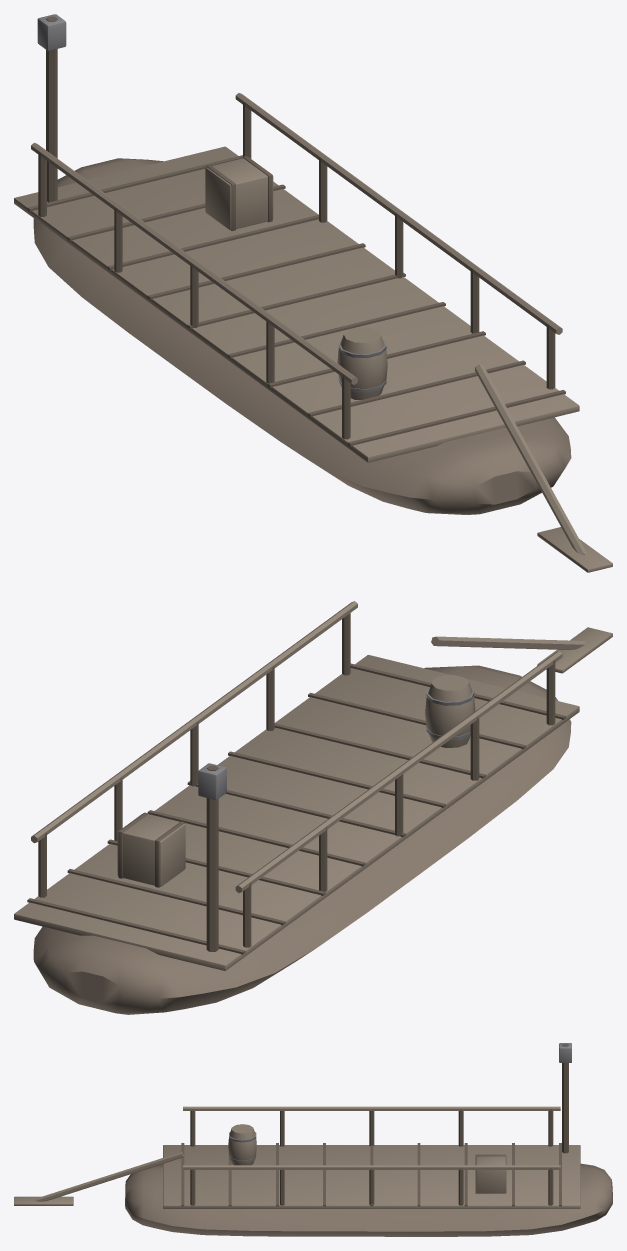
File: ferry_boat.gltf
3 renders of one model, top to bottom at view 1: azimuth 30°, elevation 25°; view 2: azimuth 150°, elevation 25°; view 3: azimuth 270°, elevation 25°, orthographic. The views are drawn at different scales.
Parts seen in each view (by area): view 1: Body; view 2: Body; view 3: Body.
Boxes of the visible parts, x1,y1,x2,y2 form: Body: (14,14,612,572); Body: (14,601,612,1014); Body: (14,1043,612,1236).
Size of the model in its own units: 3.3 by 3.3 by 12.05.
